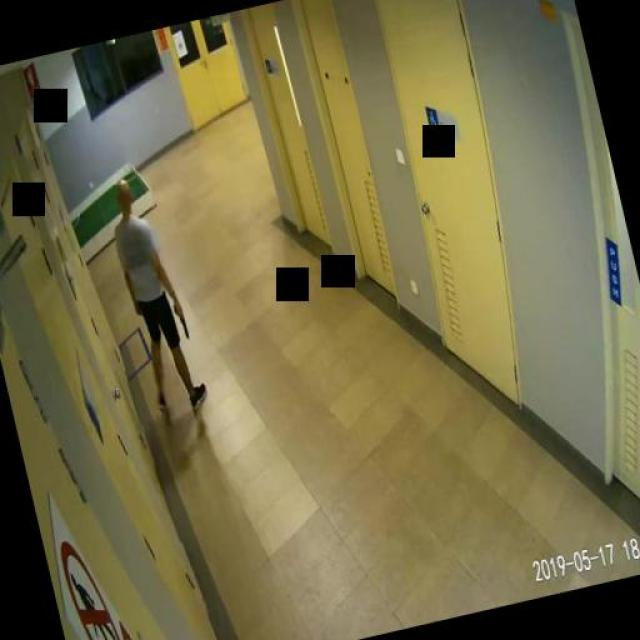gun: (171, 301, 189, 339)
